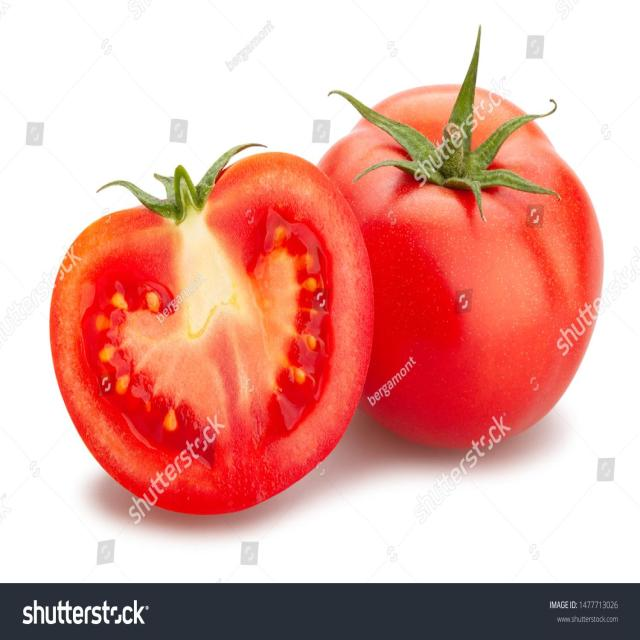Tomato: (43, 149, 384, 520), (316, 80, 602, 448)
